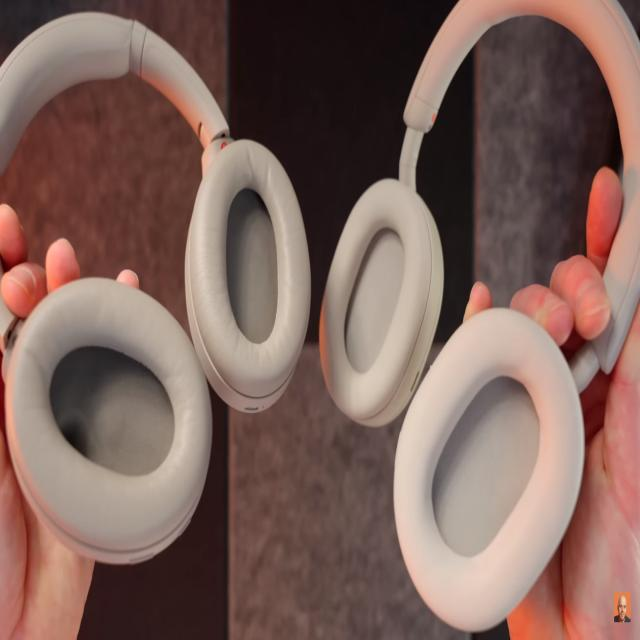Headphone: (318, 3, 640, 639), (0, 12, 313, 568)
